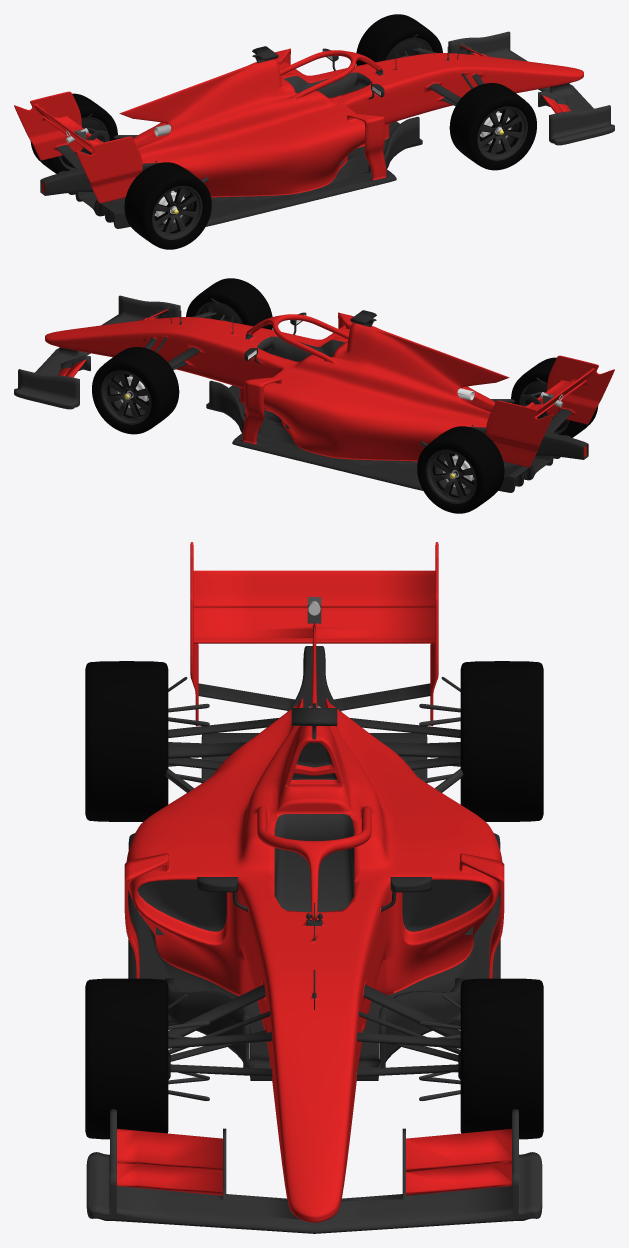
File: f2_car.glb
3 renders of one model, top to bottom at view 1: azimuth 30°, elevation 25°; view 2: azimuth 150°, elevation 25°; view 3: azimuth 270°, elevation 25°, orthographic. The views are drawn at different scales.
Visible parts, largest first — view 1: Cube, Wheel_RR, Wheel_FR, Wheel_FL, Wheel_RL; view 2: Cube, Wheel_FL, Wheel_RL, Wheel_FR, Wheel_RR; view 3: Cube, Wheel_RL, Wheel_RR, Wheel_FL, Wheel_FR.
Part boxes in pixels (<box>): Cube: <box>14,31,614,228</box>; Wheel_RR: <box>124,162,211,249</box>; Wheel_FR: <box>449,83,536,170</box>; Wheel_FL: <box>356,14,442,65</box>; Wheel_RL: <box>30,93,117,173</box>; Cube: <box>14,295,614,492</box>; Wheel_FL: <box>92,347,179,434</box>; Wheel_RL: <box>417,426,504,513</box>; Wheel_FR: <box>186,278,272,329</box>; Wheel_RR: <box>511,357,598,437</box>; Cube: <box>86,542,542,1233</box>; Wheel_RL: <box>460,661,543,821</box>; Wheel_RR: <box>85,661,168,821</box>; Wheel_FL: <box>460,978,543,1139</box>; Wheel_FR: <box>85,978,168,1139</box>.
Size of the model in its own units: 9.26 by 1.98 by 3.4.
